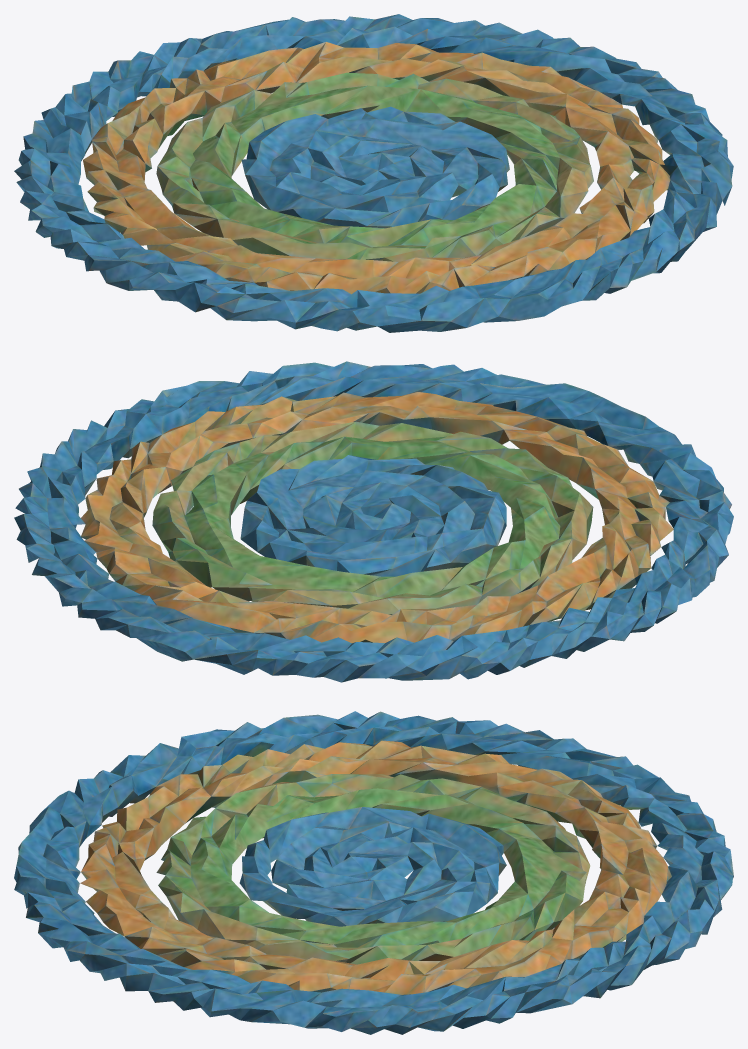
Rendered from home_rug.fbx.
The picture shows the model from 3 angles, top to bottom: view 1: azimuth 30°, elevation 25°; view 2: azimuth 150°, elevation 25°; view 3: azimuth 270°, elevation 25°; orthographic projection.
Visible parts, largest first — view 1: Mesh_0; view 2: Mesh_0; view 3: Mesh_0.
Part boxes in pixels (x1,y1,x2,y2): Mesh_0: [14, 14, 733, 332]; Mesh_0: [14, 361, 733, 682]; Mesh_0: [14, 711, 733, 1034].
Size of the model in its own units: 1.89 by 0.0973 by 1.88.
1 material, 1 textured.
